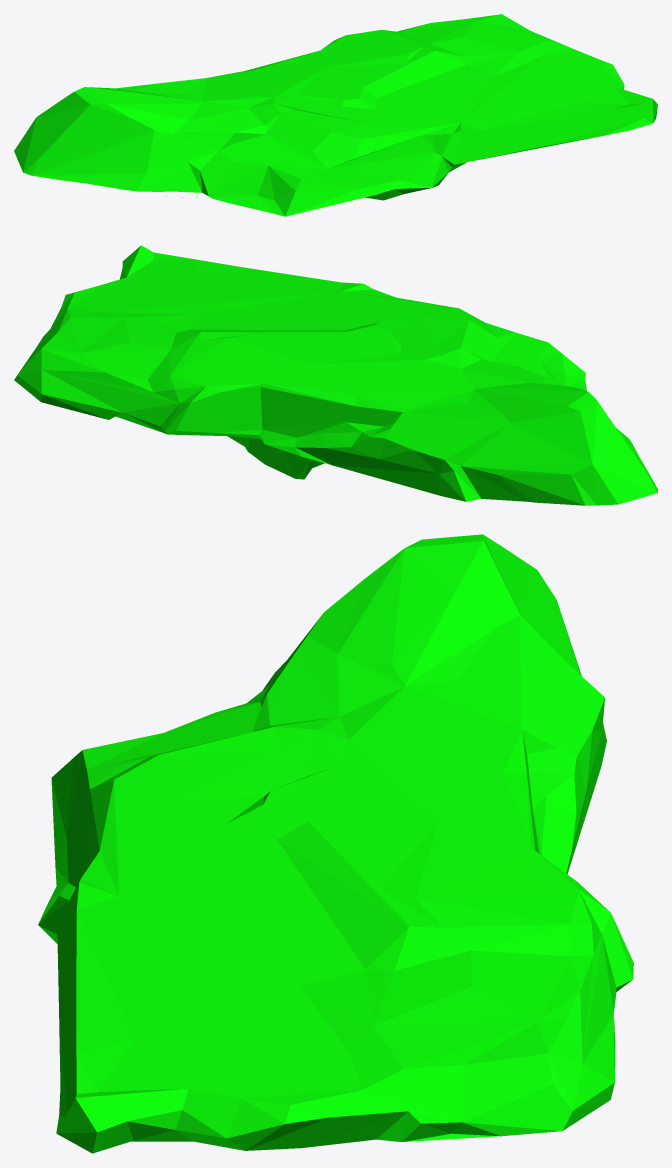
File: SM_Iceberg_Small_D_Rock.fbx
3 views of the same model, one above another, from view 1: azimuth 30°, elevation 25°; view 2: azimuth 150°, elevation 25°; view 3: azimuth 270°, elevation 25° (orthographic). The views are drawn at different scales.
Parts seen in each view (by area): view 1: SM_Iceberg_Small_D_Rock; view 2: SM_Iceberg_Small_D_Rock; view 3: SM_Iceberg_Small_D_Rock.
Part boxes in pixels (x1,y1,x2,y2): SM_Iceberg_Small_D_Rock: (14, 14, 657, 216); SM_Iceberg_Small_D_Rock: (14, 245, 657, 505); SM_Iceberg_Small_D_Rock: (38, 534, 633, 1153).
Bounding box in the file's own units: 12.63 × 2.63 × 5.95.
